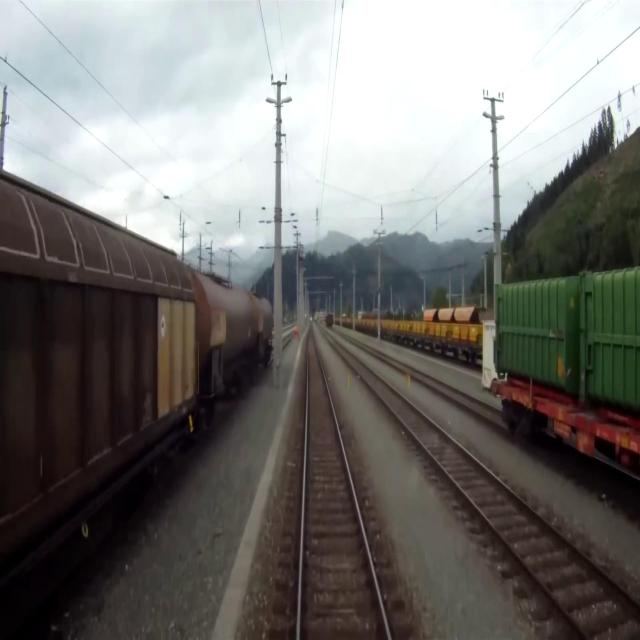rail-track: (341, 347, 640, 639), (301, 326, 386, 639), (426, 377, 502, 420)
